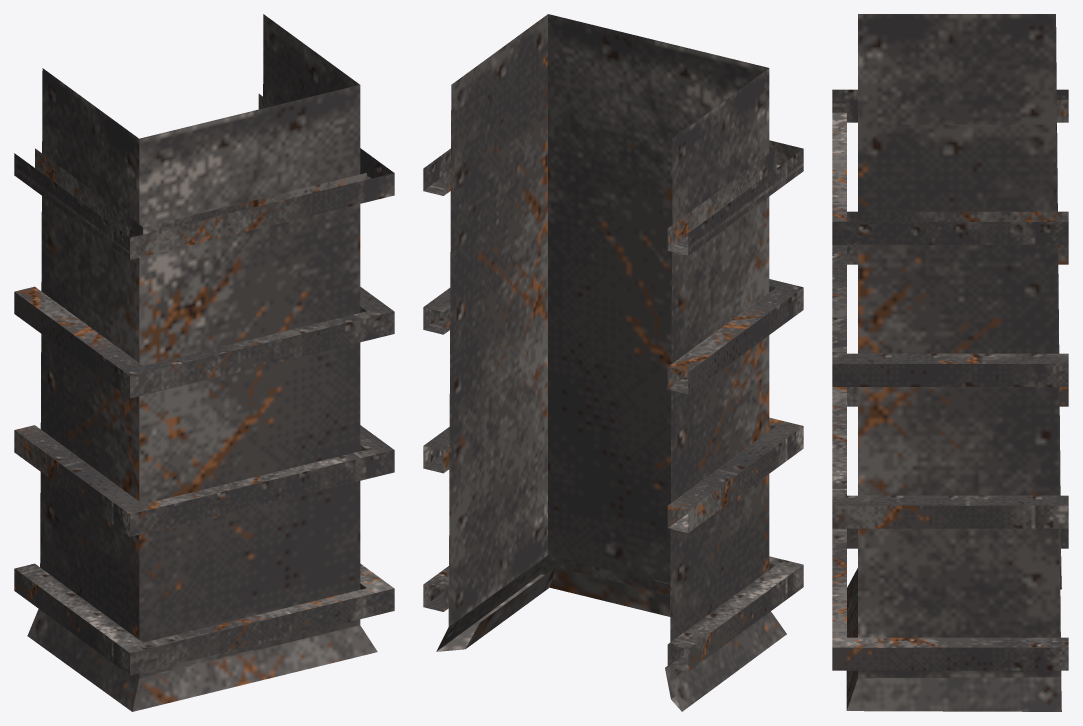
The model's file is MetalChute.fbx.
3 views of the same model, side by side, from view 1: azimuth 30°, elevation 25°; view 2: azimuth 150°, elevation 25°; view 3: azimuth 270°, elevation 25° (orthographic). The views are drawn at different scales.
Parts seen in each view (by area): view 1: MetalChute; view 2: MetalChute; view 3: MetalChute.
Part boxes in pixels (<box>): MetalChute: <box>14,14,394,711</box>; MetalChute: <box>423,14,803,711</box>; MetalChute: <box>832,14,1068,711</box>.
Bounding box in the file's own units: 2 × 4.1 × 1.51.
